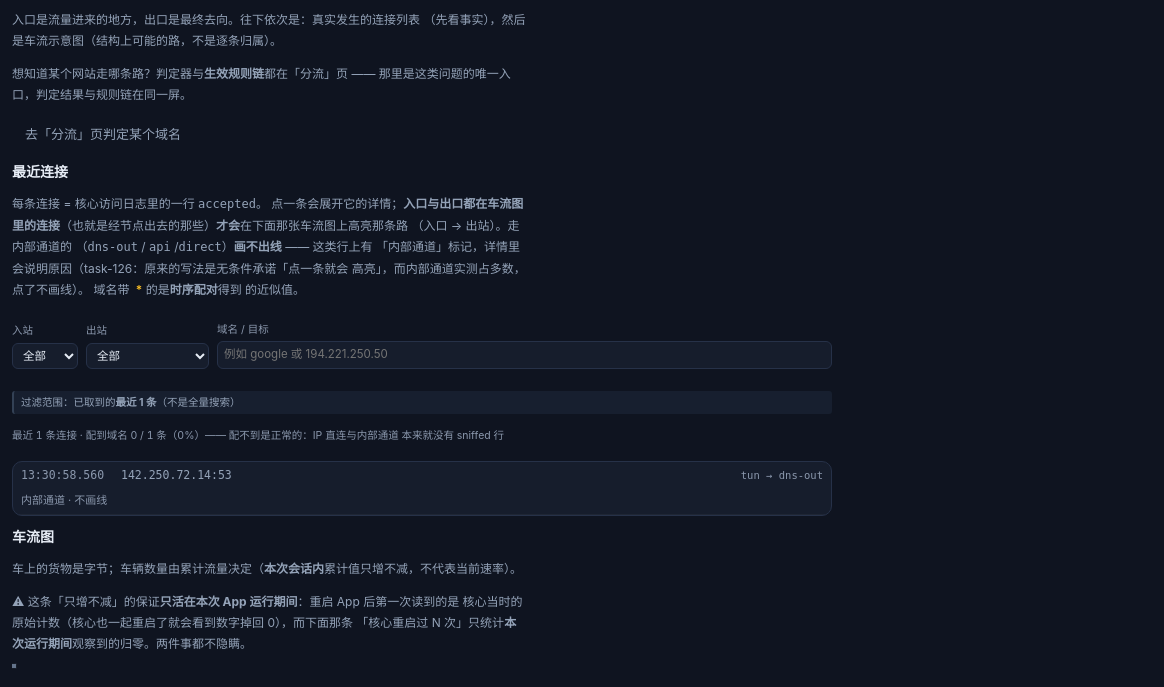
Test case: task-126 · B-2b：页面顶部那条说明的前缀也要看 inFlow › 选中的是内部通道连接 ⇒ 前缀是「单连接：」，不能说成「单连接高亮：」
The image size is (1164, 687).
Click the text "tun → dns-out".
click(782, 475)  # box [741, 467, 823, 483]
(page scrolled)
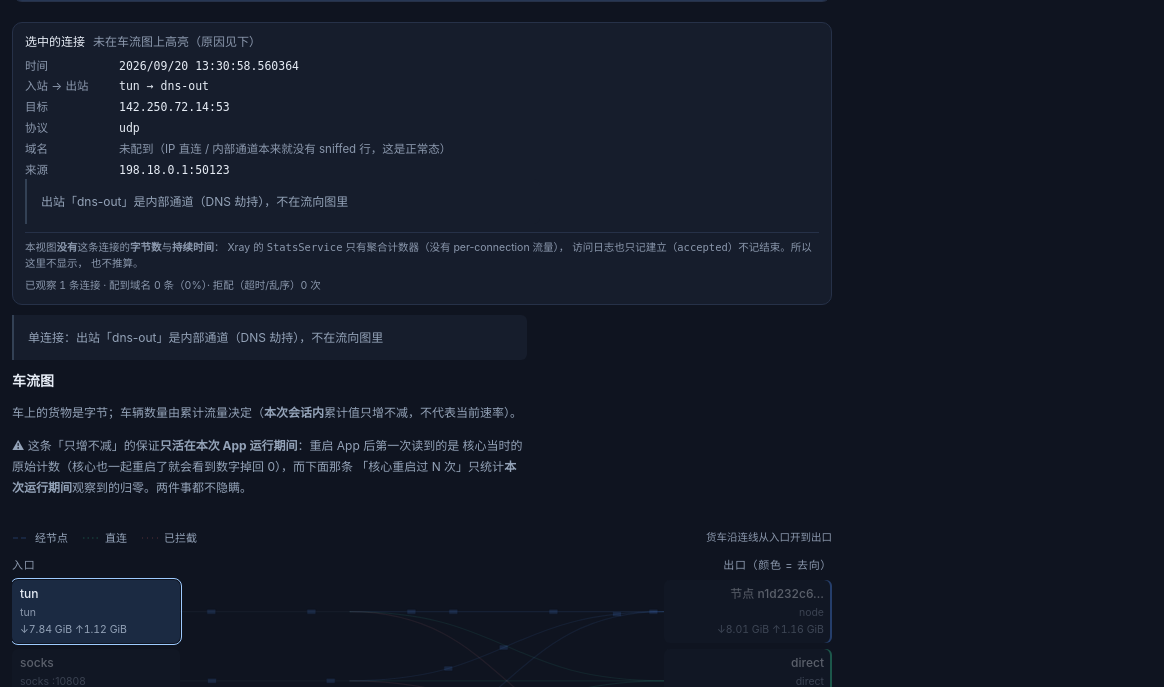
Check: the text with class "note" shows "单连接：", box [12, 315, 527, 360]
